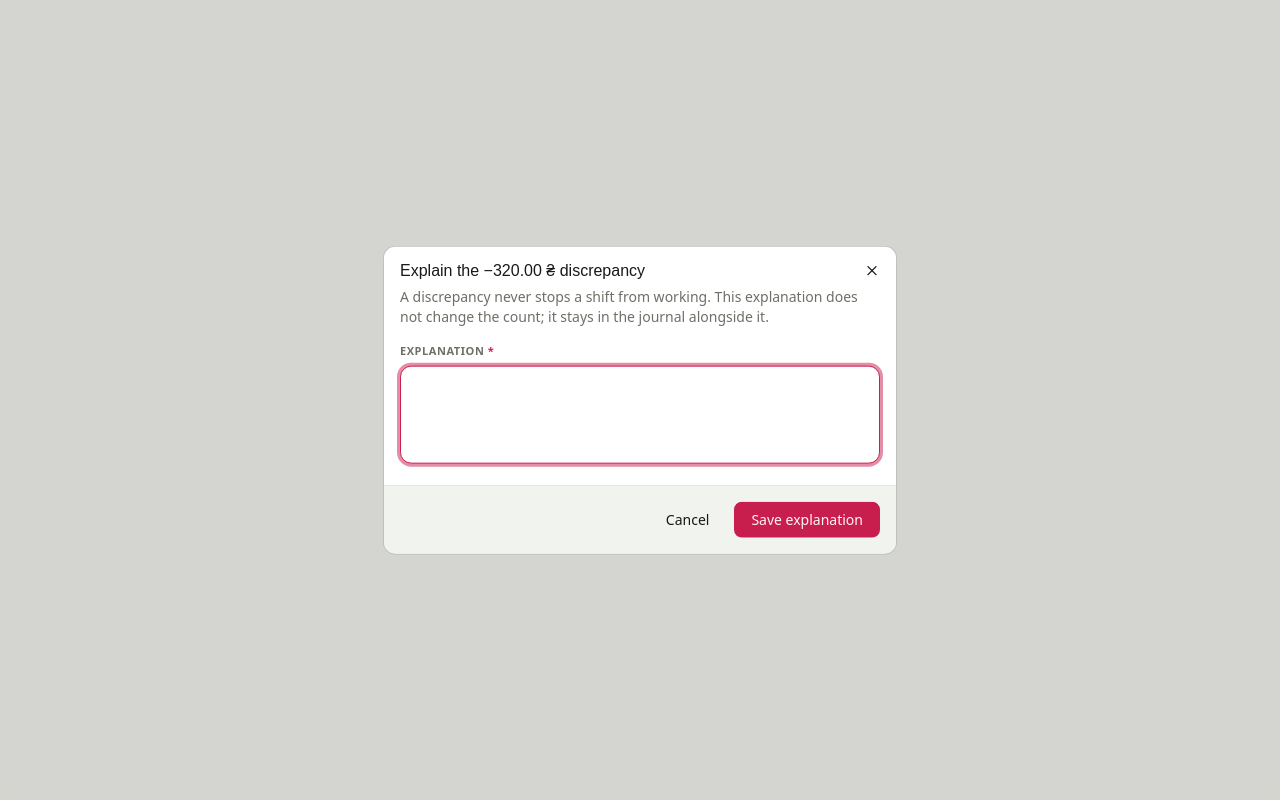
Scenario: ExplainDiscrepancyDialog › saves the typed explanation for the shift and closes
Type "здачу віддали з іншої шухляди" into the text box labelled "Explanation" at (640, 414), box [400,365,880,463]
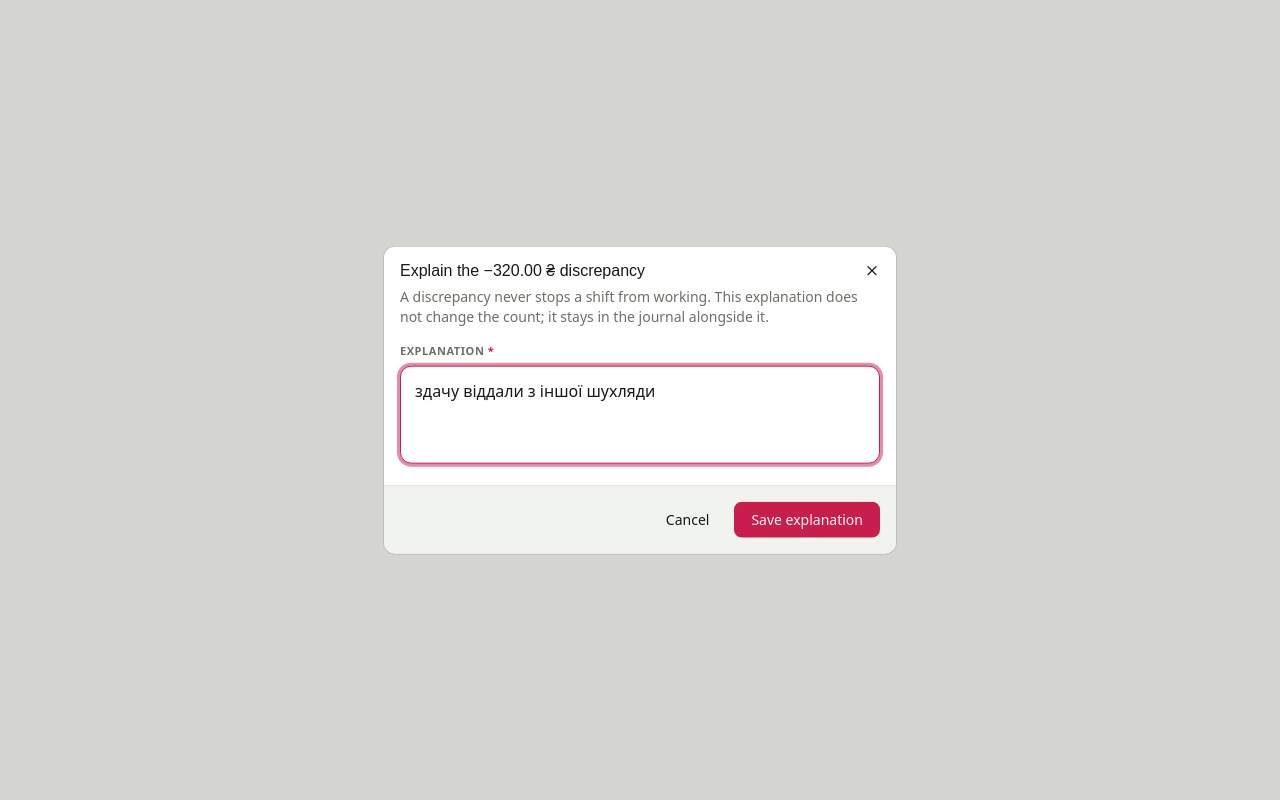
Click the button "Save explanation" at (807, 519), box [734,501,880,537]
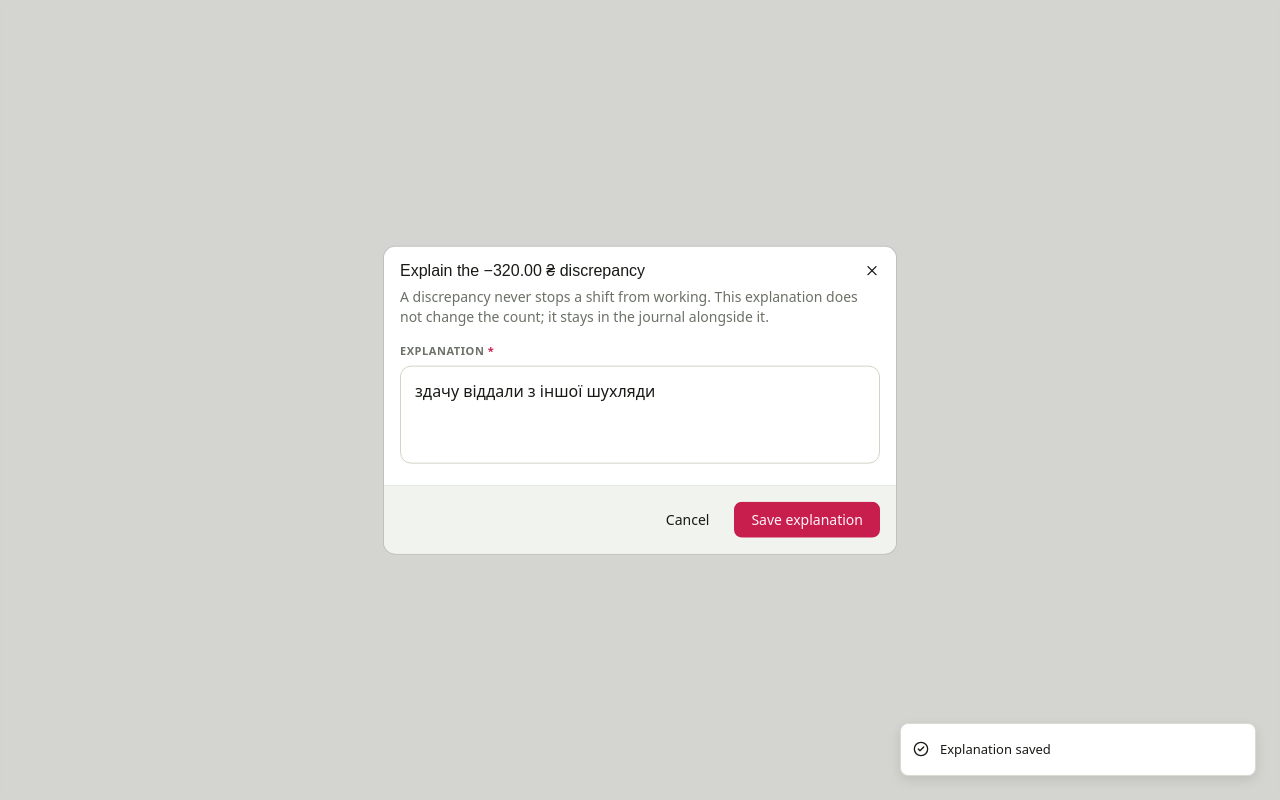
Result: the text "Explanation saved" is shown at [940,740,1051,759]
